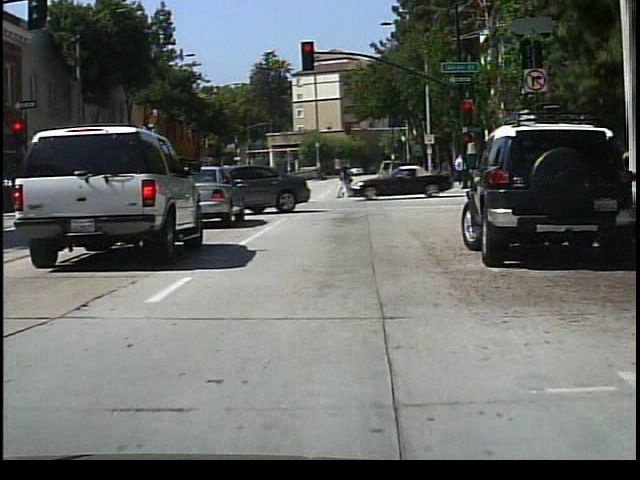person: (454, 150, 472, 188), (338, 158, 354, 200)
